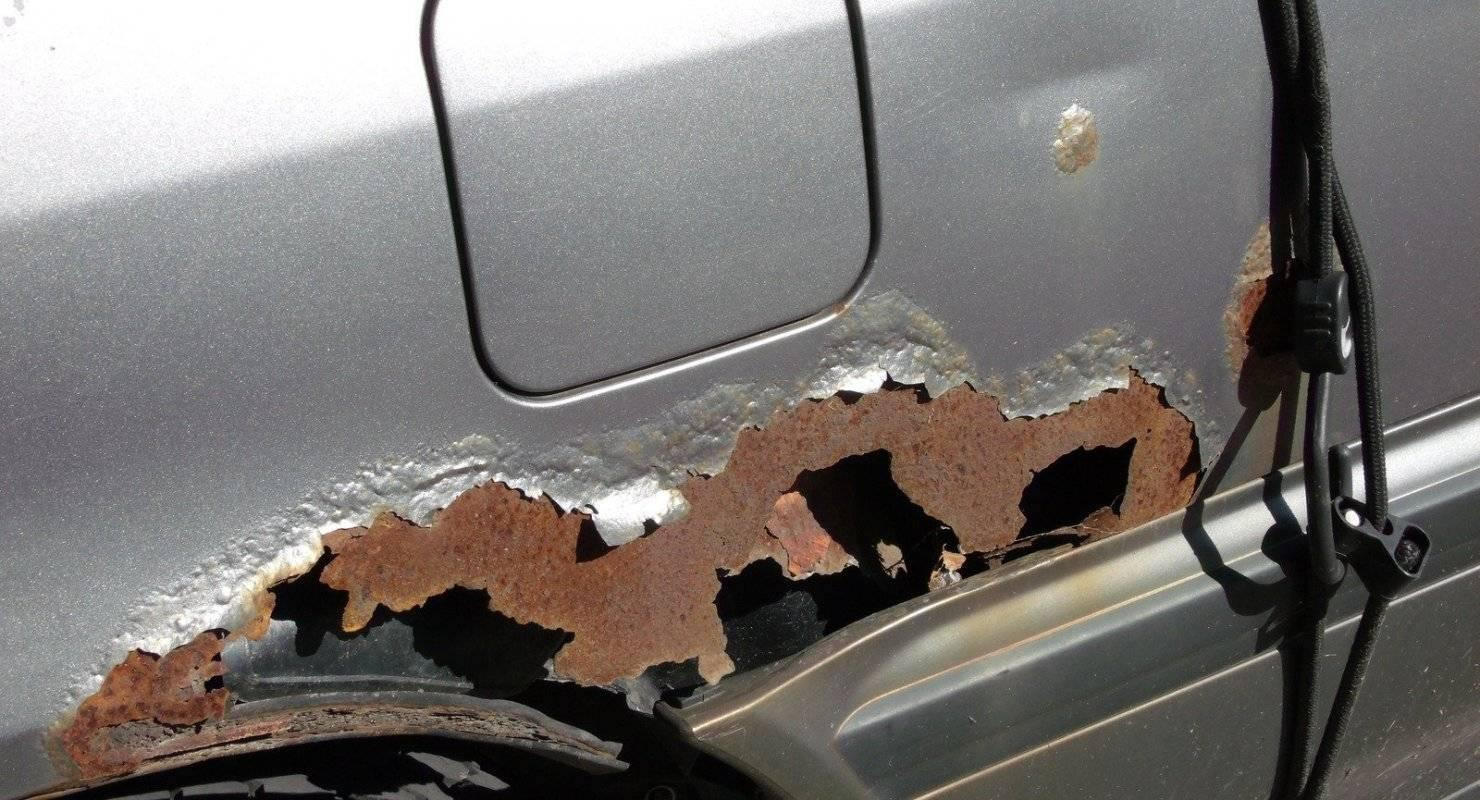corrosion: (10, 315, 1219, 796), (1053, 105, 1099, 174)
